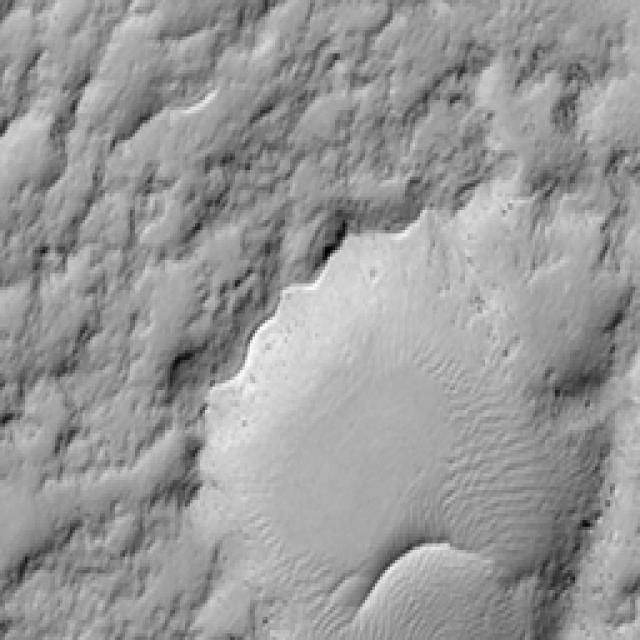Crater: (197, 216, 597, 640)
